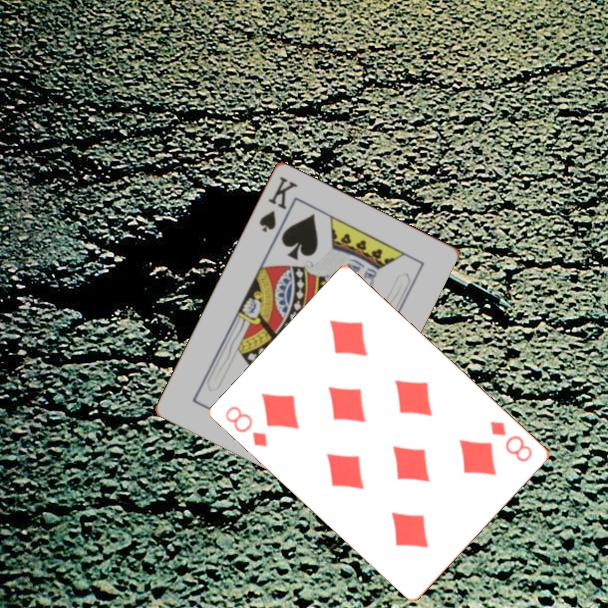d08: (487, 417, 536, 465), (222, 402, 271, 450)
s13: (256, 172, 300, 235)
